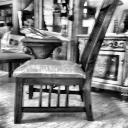chair_success: (7, 1, 125, 125)
